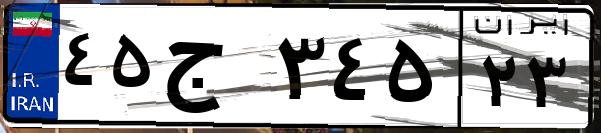2: (475, 38, 525, 113)
3: (270, 28, 330, 110), (525, 38, 570, 115)
4: (330, 28, 385, 110), (57, 26, 110, 100)
5: (385, 28, 445, 110), (110, 28, 158, 98)
ج: (158, 20, 270, 120)
